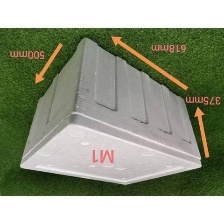foam_box: (15, 34, 206, 189)
